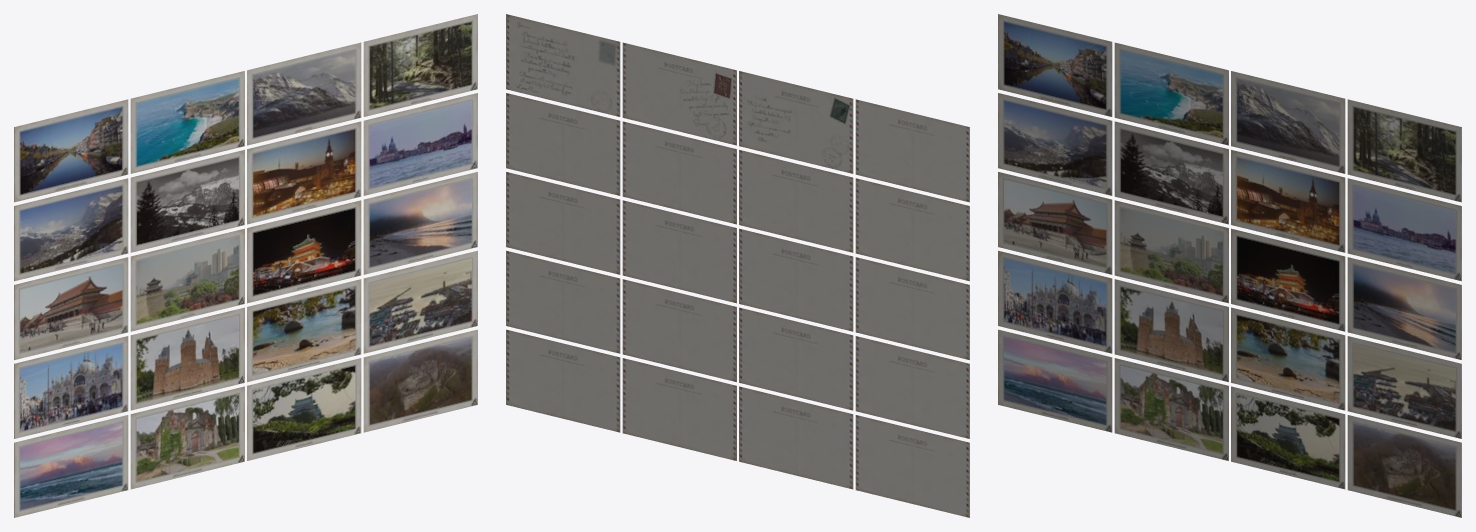
File: postcards.glb
The picture shows the model from 3 angles, left to right: view 1: azimuth 30°, elevation 25°; view 2: azimuth 150°, elevation 25°; view 3: azimuth 330°, elevation 25°; orthographic projection.
Visible parts, largest first — view 1: postcards_0, postcards_2, postcards_4, postcards_6, postcards_13, postcards_15, postcards_17, postcards_19, postcards_9, postcards_10, postcards_1, postcards_7 (+8 smaller); view 2: postcards_0, postcards_2, postcards_4, postcards_6, postcards_13, postcards_15, postcards_17, postcards_19, postcards_9, postcards_10, postcards_1, postcards_7 (+8 smaller); view 3: postcards_1, postcards_3, postcards_5, postcards_7, postcards_12, postcards_14, postcards_16, postcards_18, postcards_9, postcards_10, postcards_2, postcards_4 (+8 smaller).
Boxes of the visible parts, x1,y1,x2,y2 form: postcards_0: (14,99,128,202); postcards_2: (247,42,361,145); postcards_4: (14,178,128,281); postcards_6: (247,121,361,224); postcards_13: (130,307,244,410); postcards_15: (363,250,477,353); postcards_17: (130,386,244,489); postcards_19: (363,329,477,432); postcards_9: (130,228,244,331); postcards_10: (247,200,361,303); postcards_1: (130,71,244,173); postcards_7: (363,93,477,195); postcards_0: (855,99,969,202); postcards_2: (622,42,736,145); postcards_4: (855,178,969,281); postcards_6: (622,121,736,224); postcards_13: (739,307,853,410); postcards_15: (506,250,620,353); postcards_17: (739,386,853,489); postcards_19: (506,329,620,432); postcards_9: (739,228,853,331); postcards_10: (622,200,736,303); postcards_1: (739,71,853,173); postcards_7: (506,93,620,195); postcards_1: (1114,42,1228,145); postcards_3: (1347,99,1461,202); postcards_5: (1114,121,1228,224); postcards_7: (1347,178,1461,281); postcards_12: (998,250,1112,353); postcards_14: (1231,307,1345,410); postcards_16: (998,329,1112,432); postcards_18: (1231,386,1345,489); postcards_9: (1114,200,1228,303); postcards_10: (1231,228,1345,331); postcards_2: (1231,71,1345,173); postcards_4: (998,93,1112,195).
Size of the model in its own units: 0.6767 by 0.545 by 0.000142.
1 material, 1 textured.
